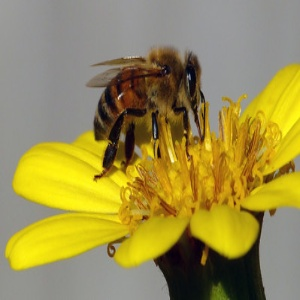bee: (90, 49, 208, 162)
